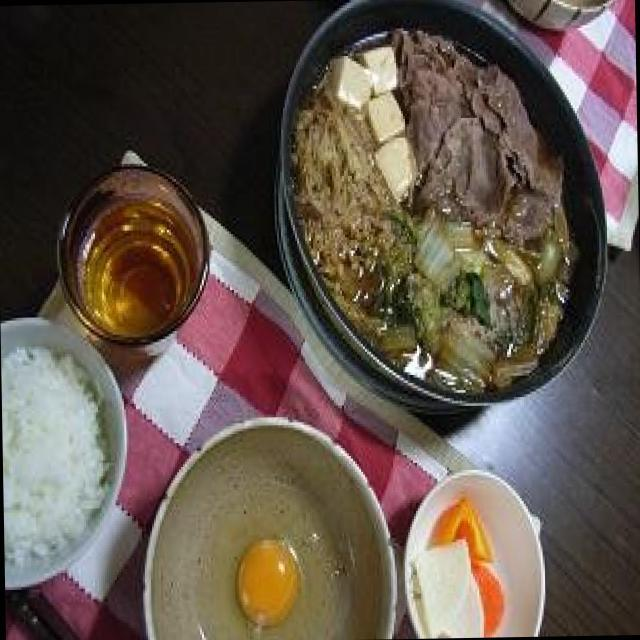Rice: (0, 350, 109, 578)
